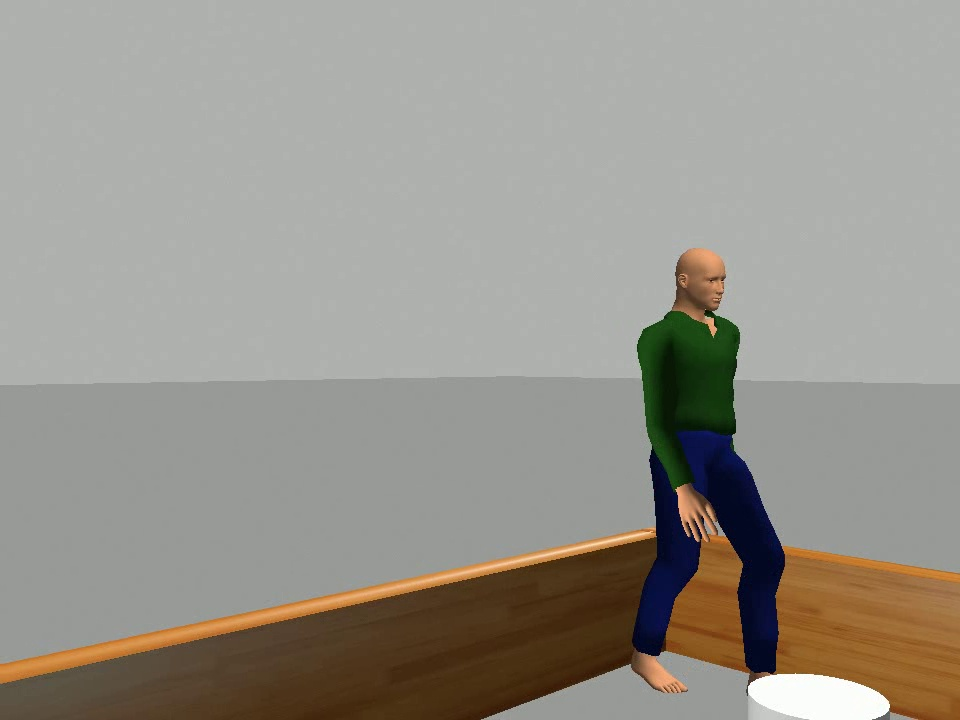person: (632, 245, 789, 703)
